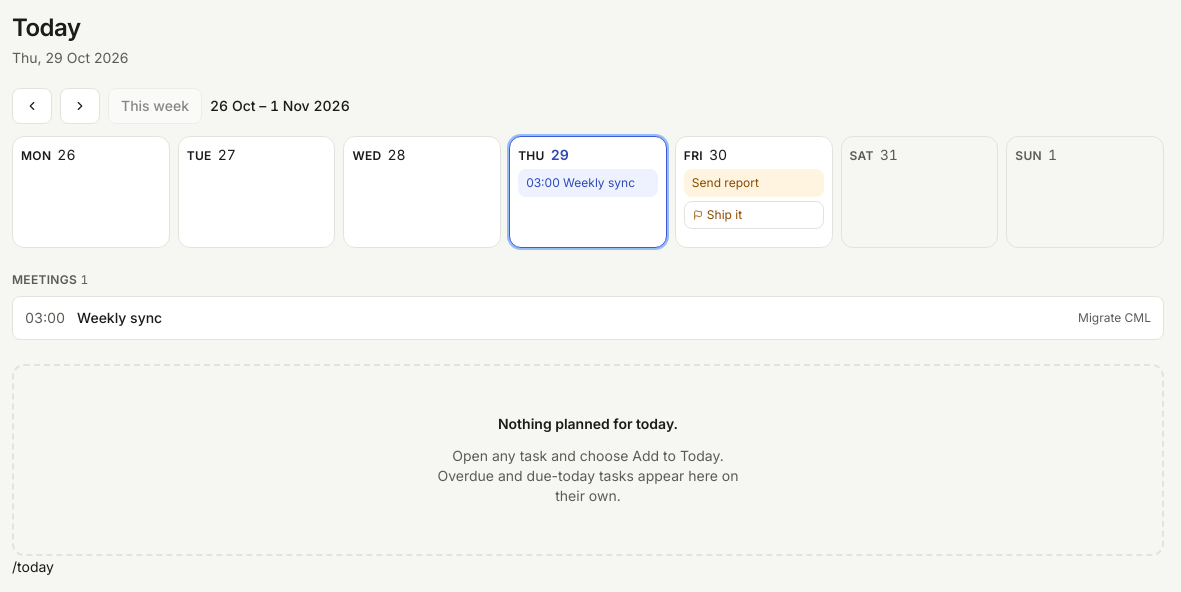
Today page week view › moves between weeks through the URL and back with "This week"
Expected: the list "Week" is shown, top-left (12, 136), bottom-right (1164, 248)
Expected: the button "This week" is disabled, top-left (108, 88), bottom-right (202, 124)
Click the button named "Next week" at coordinates (80, 106), box top-left (60, 88), bottom-right (100, 124)
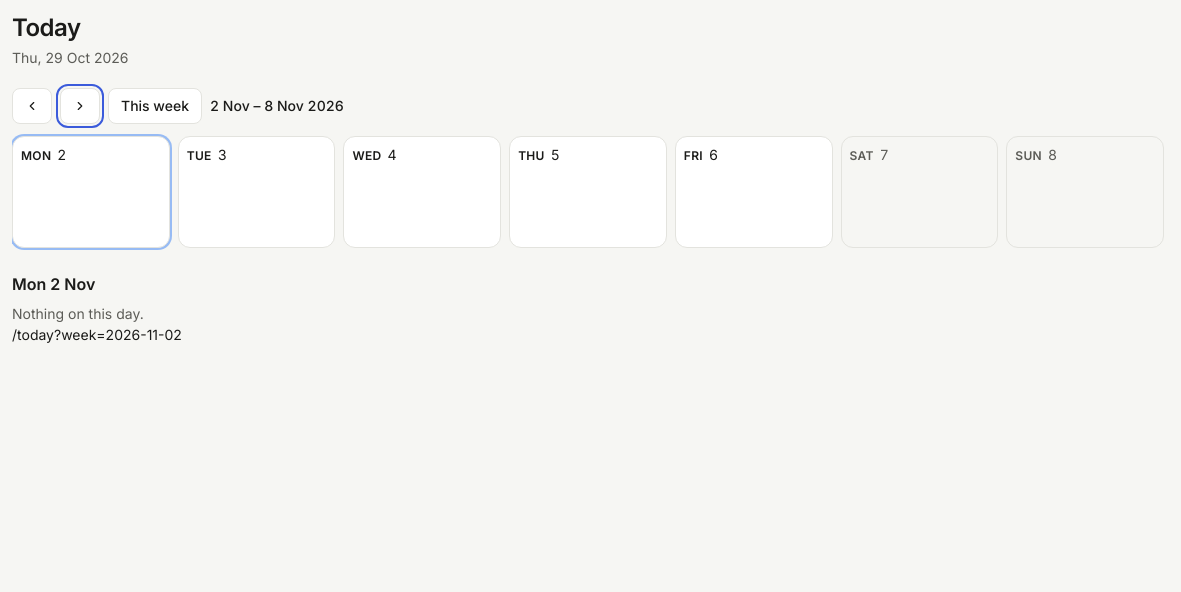
Result: the text with test id "url" reads "/today?week=2026-11-02" at top-left (12, 326), bottom-right (182, 343)
Result: the text "2 Nov – 8 Nov 2026" is shown at top-left (210, 96), bottom-right (344, 116)
Click the button named "Previous week" at coordinates (32, 106), box top-left (12, 88), bottom-right (52, 124)
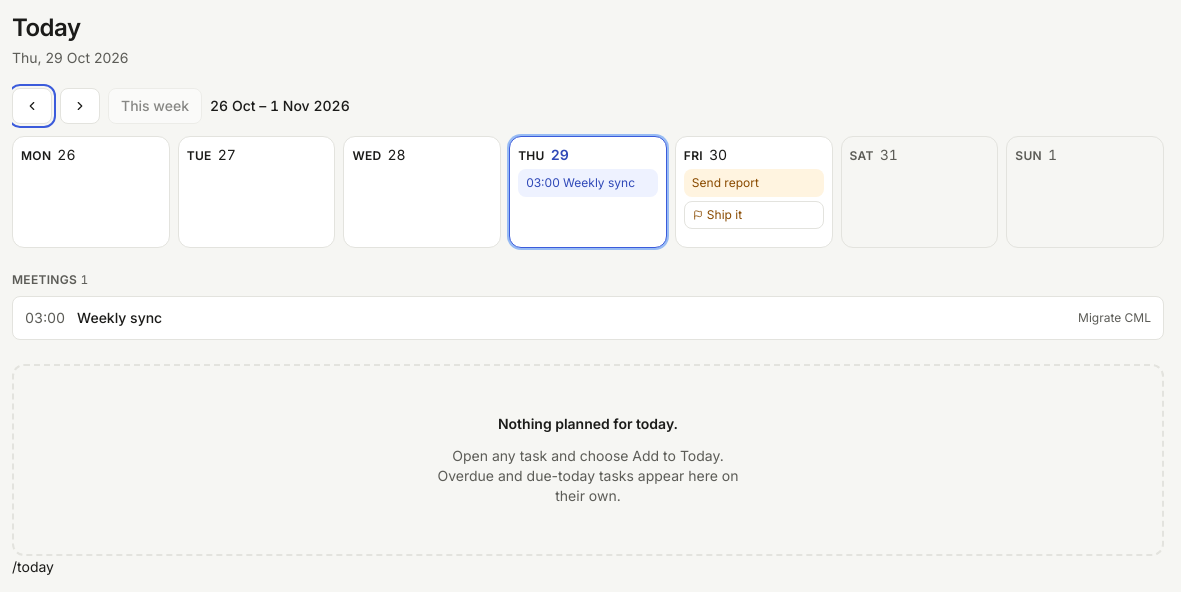
Click the button named "Previous week" at coordinates (32, 106), box top-left (12, 88), bottom-right (52, 124)
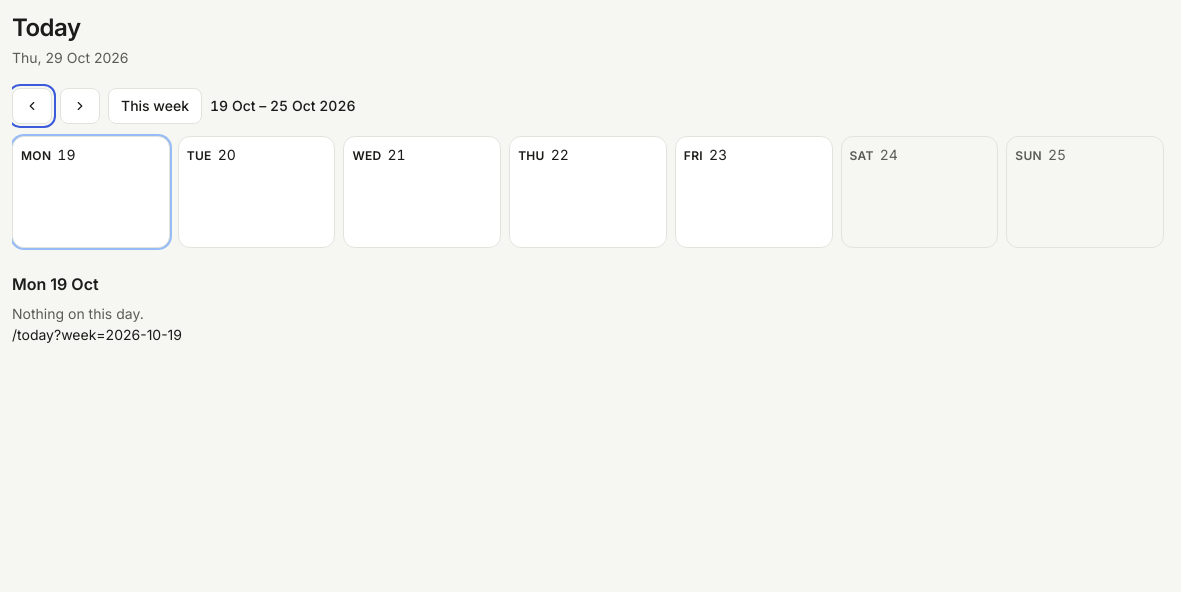
Result: the text with test id "url" reads "/today?week=2026-10-19" at top-left (12, 326), bottom-right (182, 343)
Click the button "This week" at coordinates (155, 106), box top-left (108, 88), bottom-right (202, 124)
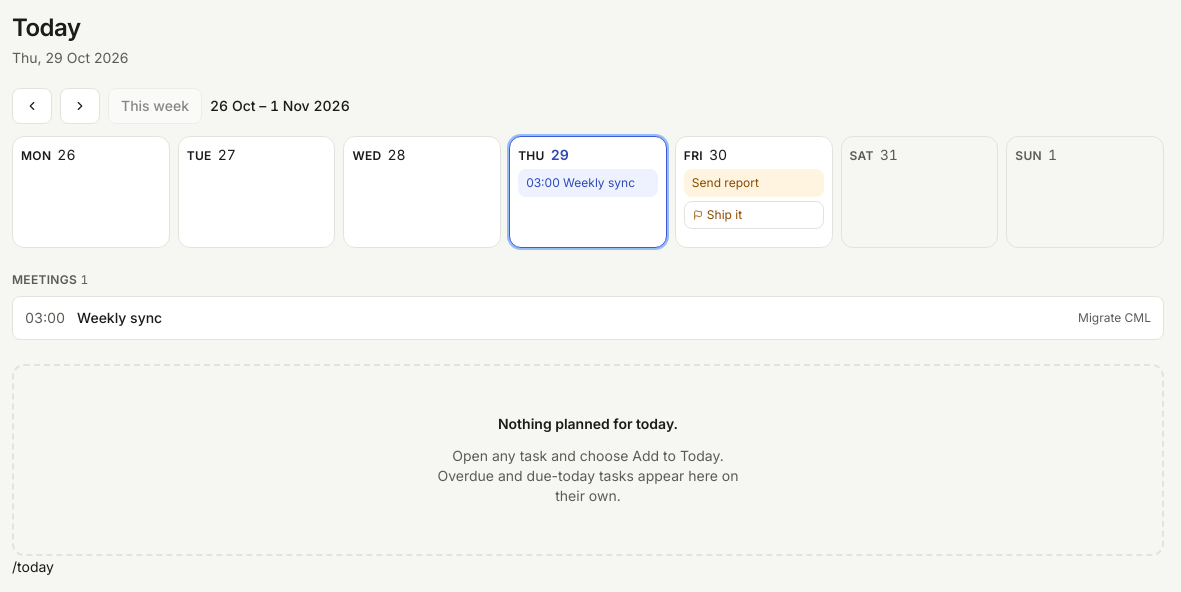
Result: the text with test id "url" reads "/today" at top-left (12, 558), bottom-right (54, 575)
